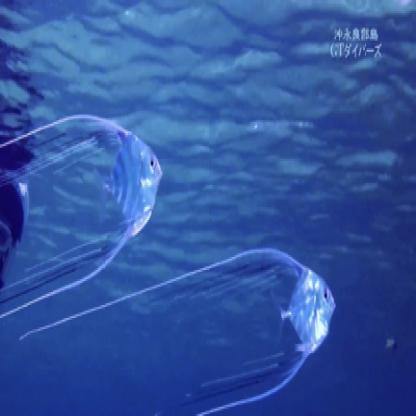Carangidae -Jacks-: (15, 238, 349, 410), (1, 108, 158, 310)
